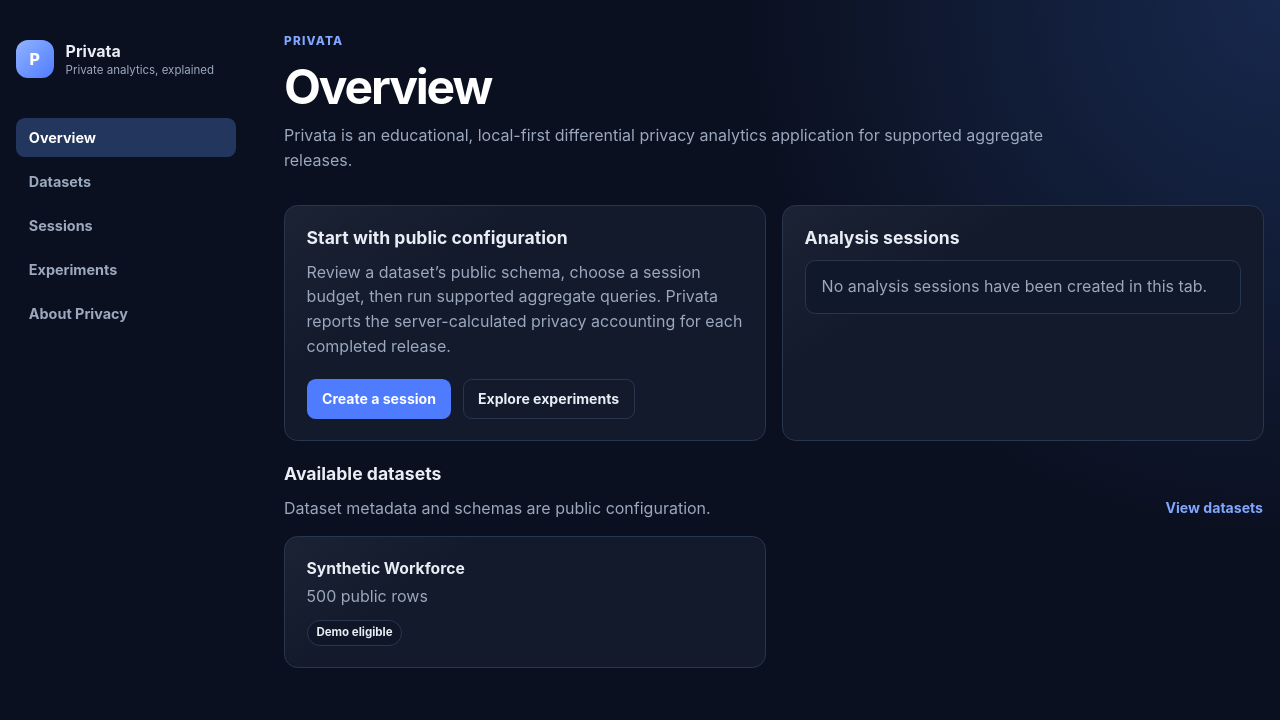
Privata frontend › renders public dataset metadata after discovery
Click the link "Datasets" at [60, 182], box 29,173 -> 91,190
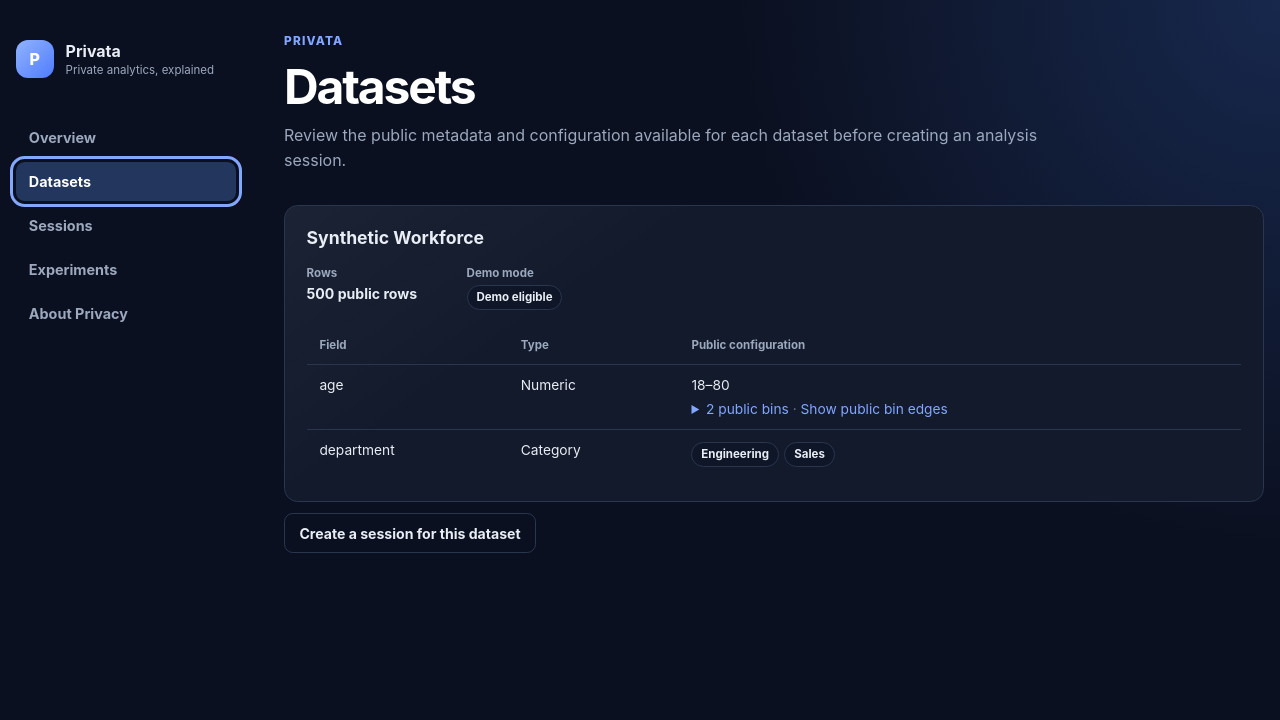
Expected: the heading "Datasets" is shown, 284,57 -> 474,116
Expected: the table named "Public schema" shows "age", 319,377 -> 344,393
Expected: the table named "Public schema" shows "Numeric", 521,377 -> 576,393
